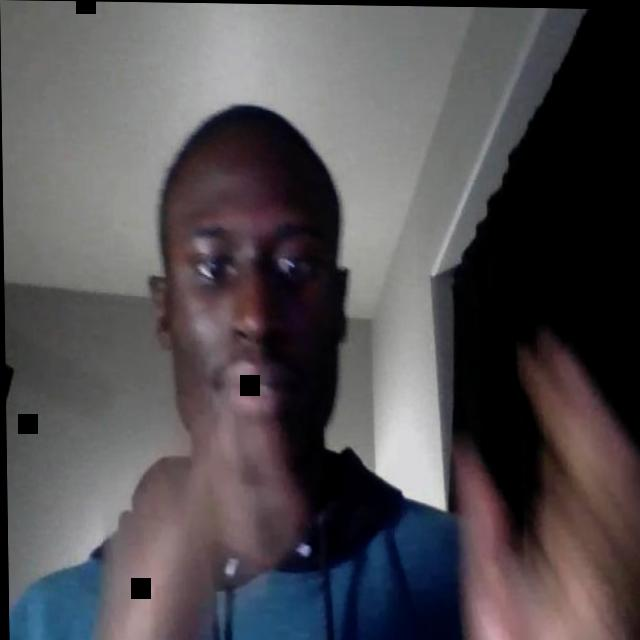NO-Mask: (165, 158, 341, 463)
